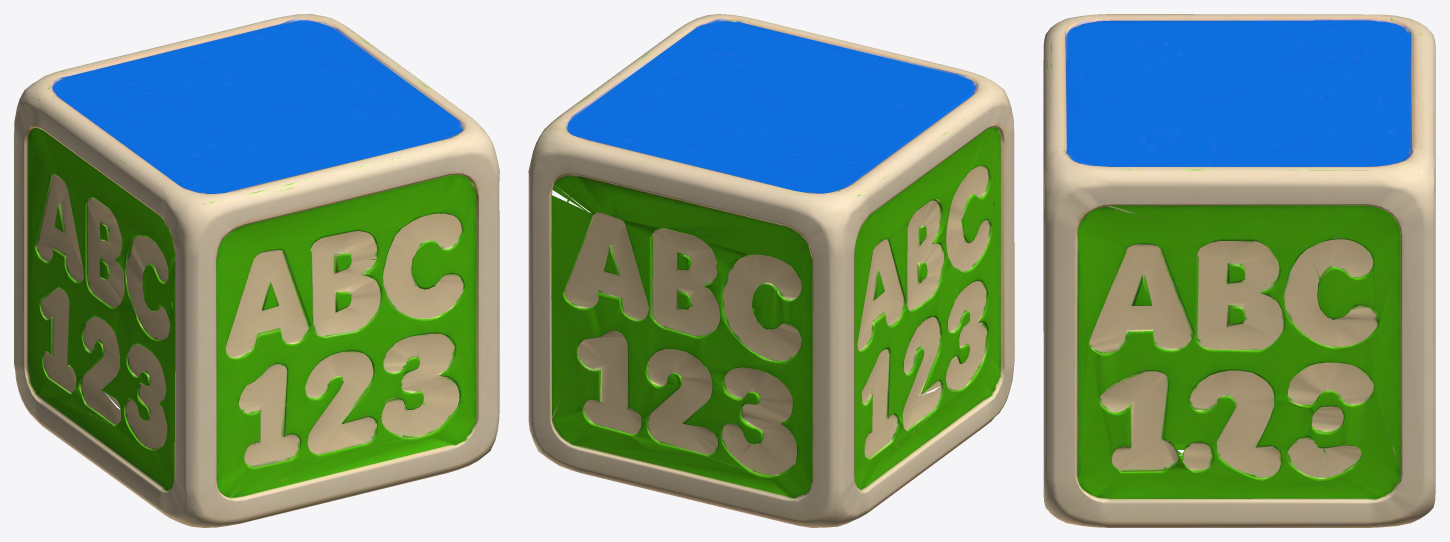
Rendered from abc_block.glb.
3 renders of one model, left to right at view 1: azimuth 30°, elevation 25°; view 2: azimuth 150°, elevation 25°; view 3: azimuth 270°, elevation 25°, orthographic. The views are drawn at different scales.
Size of what is drawn, in the model's own units: 1 by 1 by 0.9944.
Materials: 1 (1 with a texture image).
